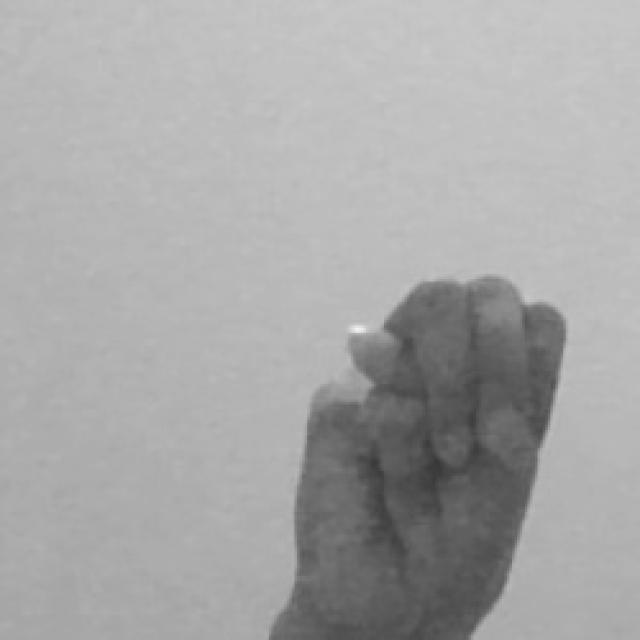M: (246, 269, 568, 640)
